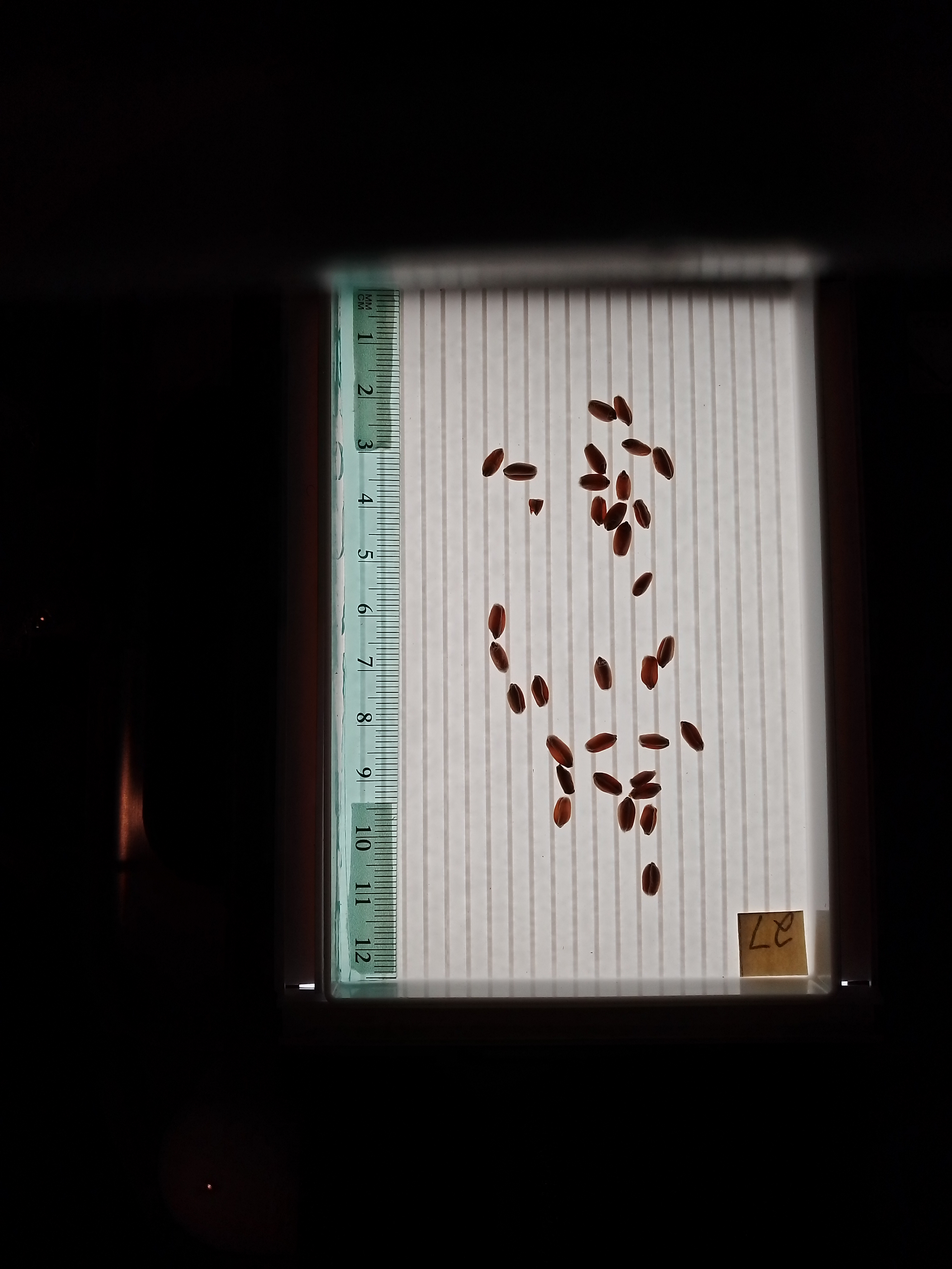seed mask: (547, 735, 572, 767), (652, 447, 674, 479), (681, 722, 704, 751), (594, 772, 622, 795), (585, 445, 607, 474), (613, 523, 632, 556), (618, 798, 636, 832), (488, 605, 506, 638), (656, 636, 675, 667), (642, 864, 660, 896), (586, 734, 616, 753), (483, 449, 504, 476), (589, 401, 616, 422), (641, 656, 658, 689), (505, 463, 536, 481), (622, 438, 651, 457), (595, 658, 612, 690), (605, 503, 625, 530), (532, 676, 549, 707), (580, 474, 609, 492), (556, 766, 574, 795), (553, 798, 571, 827), (614, 397, 632, 425), (507, 685, 525, 713), (640, 805, 657, 834), (633, 501, 651, 528), (491, 644, 508, 672), (591, 497, 607, 526), (640, 734, 669, 750), (632, 573, 652, 595), (616, 472, 631, 500), (631, 770, 655, 787), (633, 784, 660, 799)
